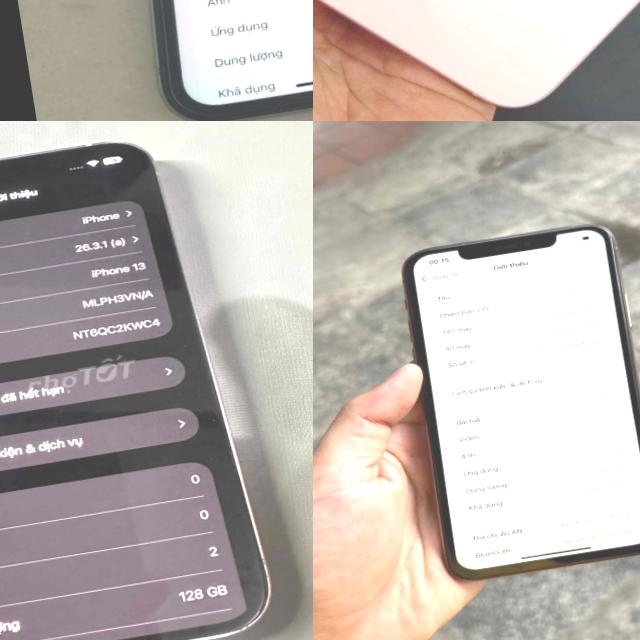gen_11: (389, 203, 640, 591), (79, 0, 313, 121)
gen_12_13: (0, 121, 290, 640)
gen_15: (313, 0, 640, 121)
